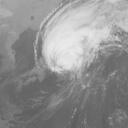cyclone: (48, 35, 84, 75)
